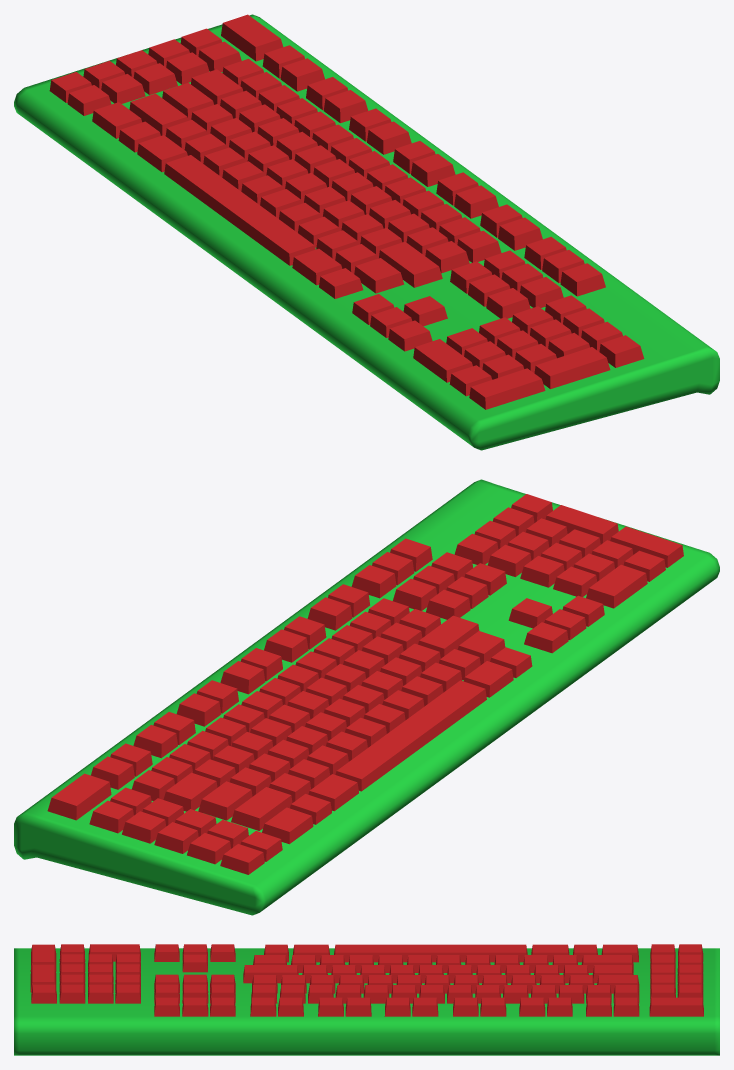
File: MOD_ELE_Keyboard_01.fbx
3 renders of one model, top to bottom at view 1: azimuth 30°, elevation 25°; view 2: azimuth 150°, elevation 25°; view 3: azimuth 270°, elevation 25°, orthographic. The views are drawn at different scales.
Visible parts, largest first — view 1: polySurface1; view 2: polySurface1; view 3: polySurface1.
Boxes of the visible parts, x1,y1,x2,y2 form: polySurface1: [14, 14, 719, 450]; polySurface1: [14, 479, 719, 915]; polySurface1: [14, 944, 719, 1055].
Size of the model in its own units: 22.16 by 4.91 by 70.72.
